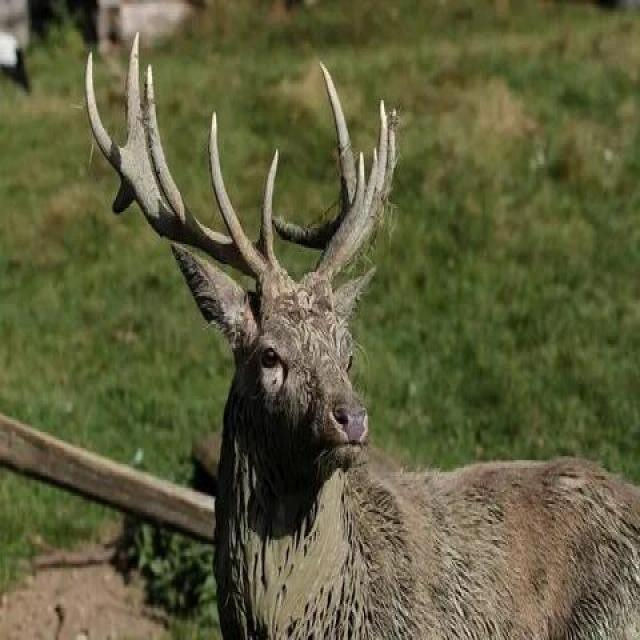deer: (96, 69, 640, 640)
